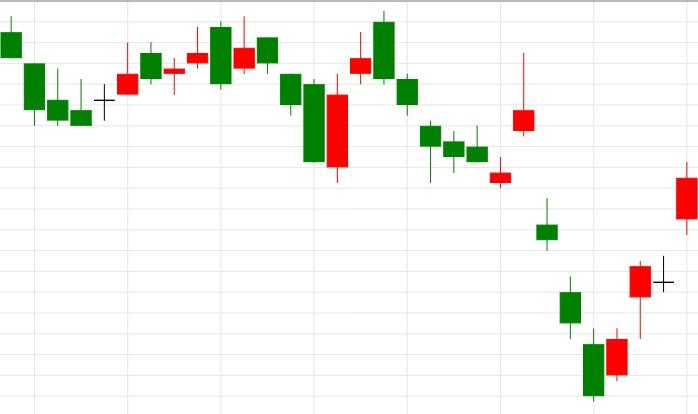bearish_engulfing_fall: (70, 22, 233, 126), (303, 10, 395, 183)
three_black_crows_fall: (302, 11, 442, 183)
